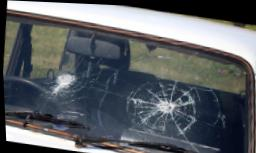Windshield: (0, 9, 252, 153)
